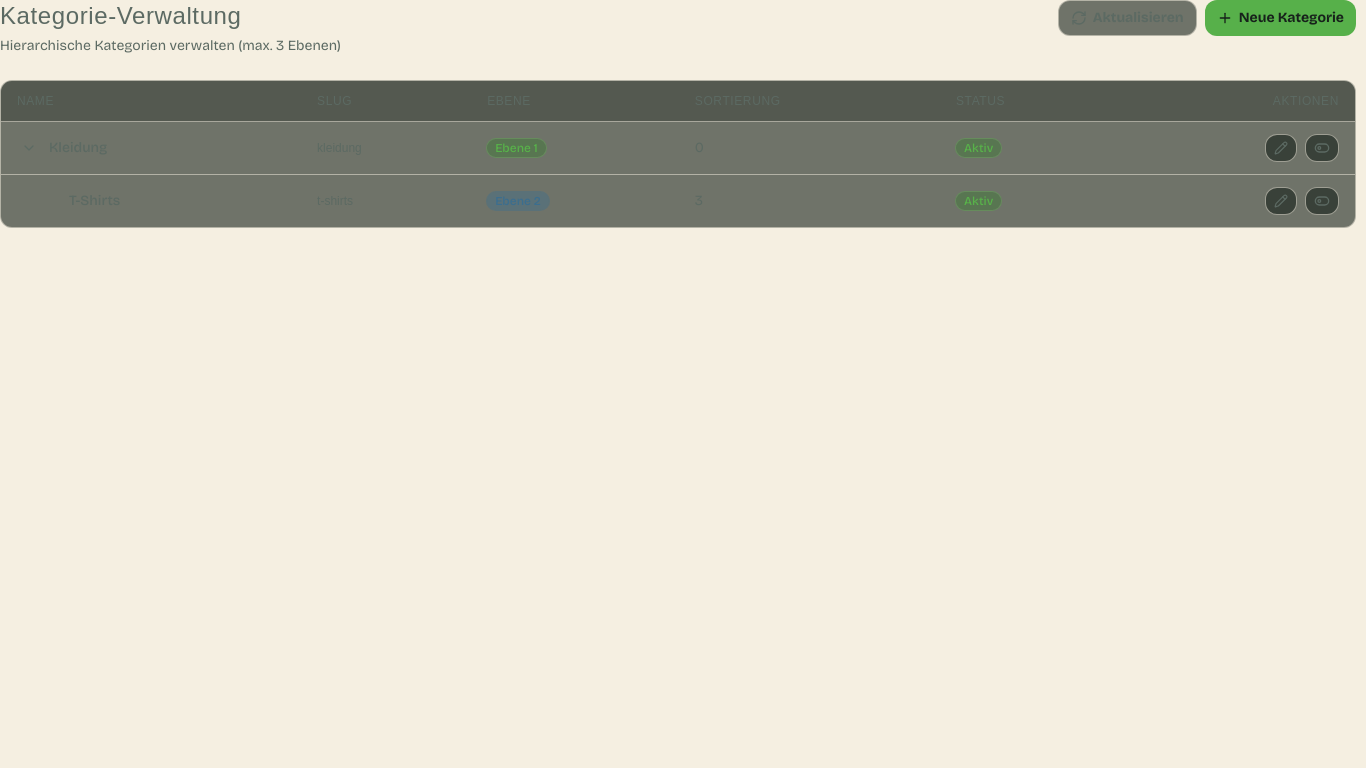
Test case: AdminCategories – client-side order validation (#178) › blocks an invalid order on the update path too
The width and height of the screenshot is (1366, 768).
Click the button named "Bearbeiten" in the row of "Ebene 2".
click(1281, 201)  # box [1265,187,1297,215]
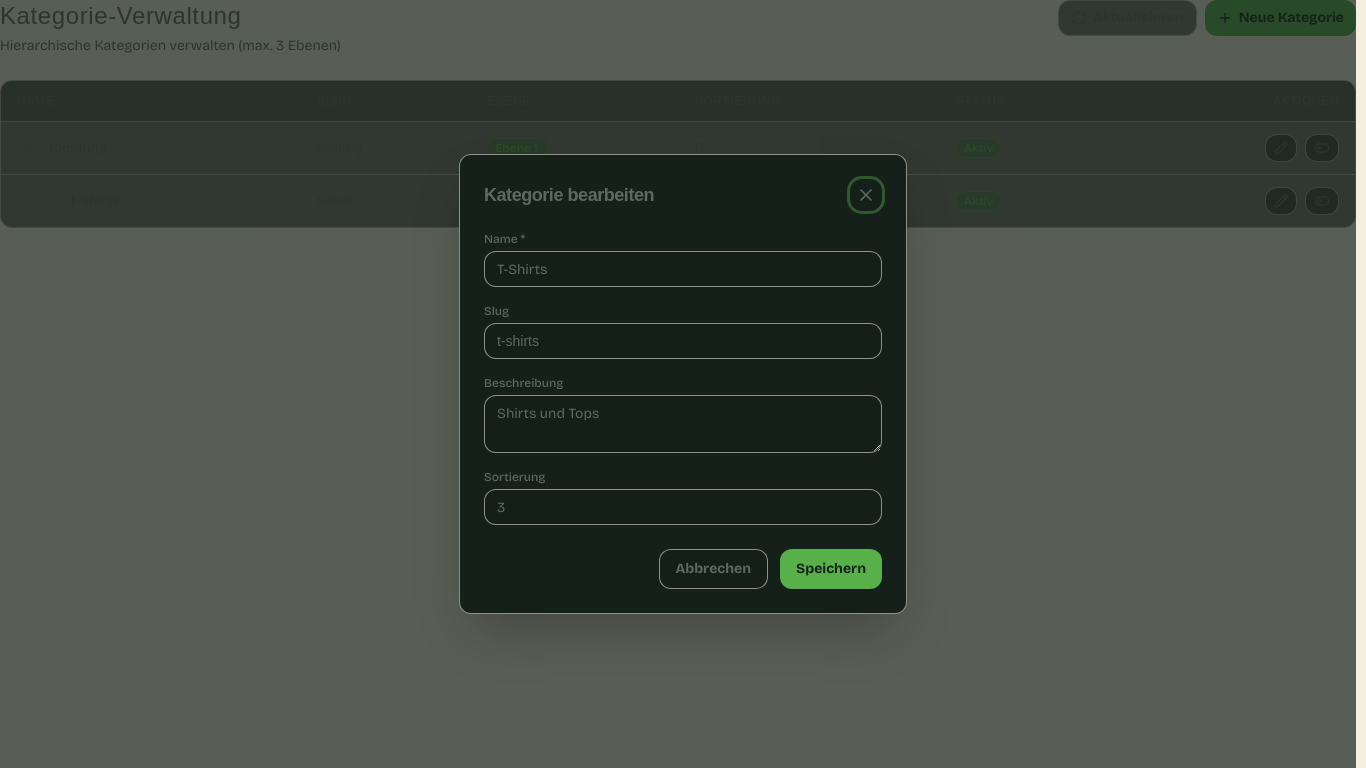
Replace the text in the number field labelled "Sortierung" with "-1" at [683, 507], box [484,489,882,525]
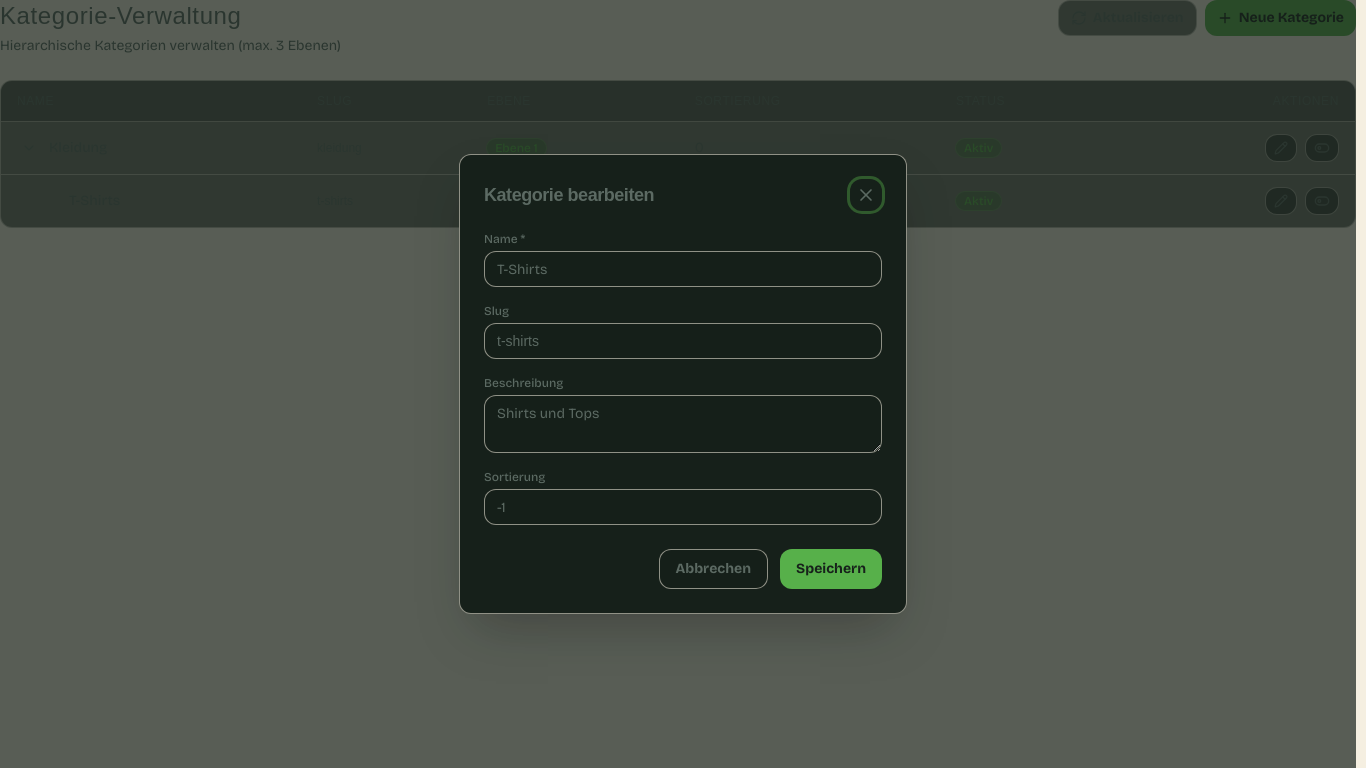
Click the button "Speichern".
click(831, 569)  # box [780,549,882,589]
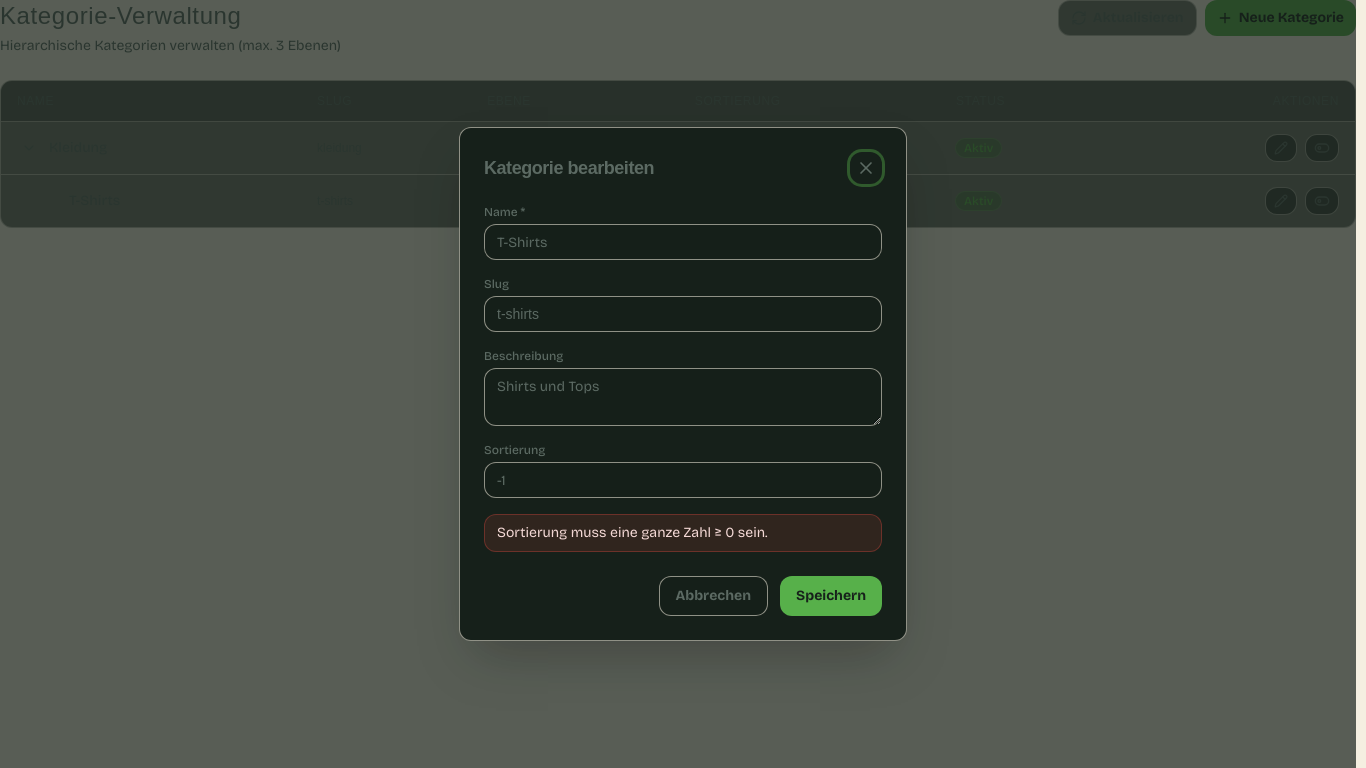
Expected: the message shows "ganze Zahl", [497,524,768,541]
